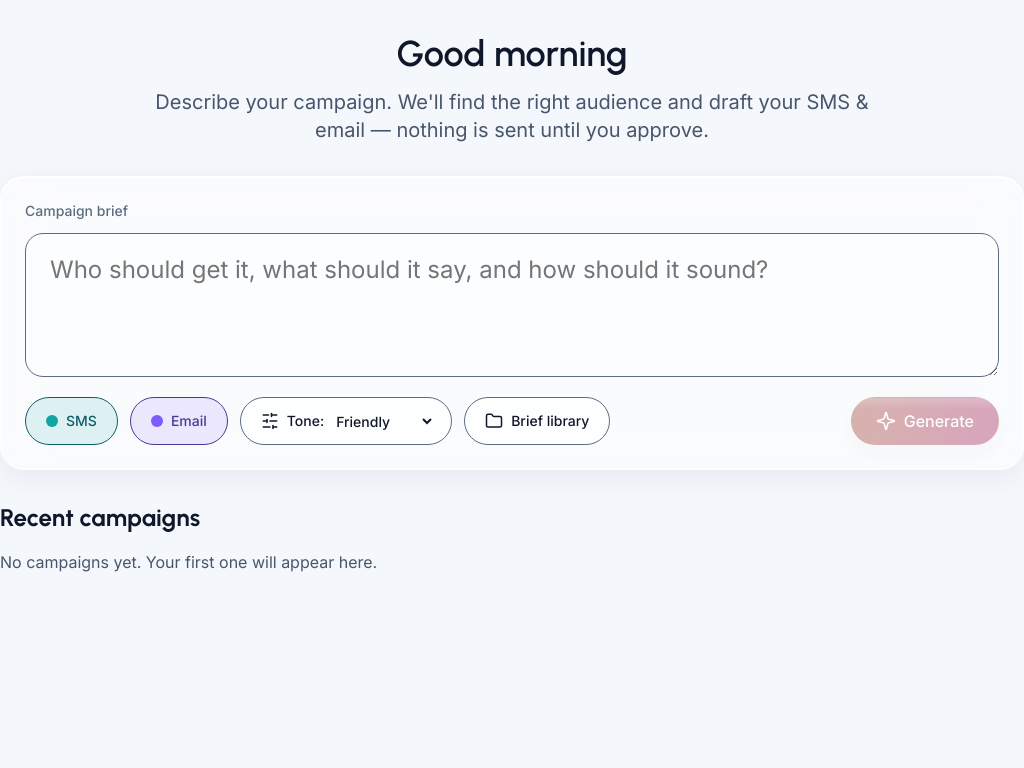
it: ComposerView › fills the form from the brief library
This screenshot has width=1024, height=768.
Click the button "Brief library".
click(537, 421)  # box top-left (464, 397), bottom-right (610, 445)
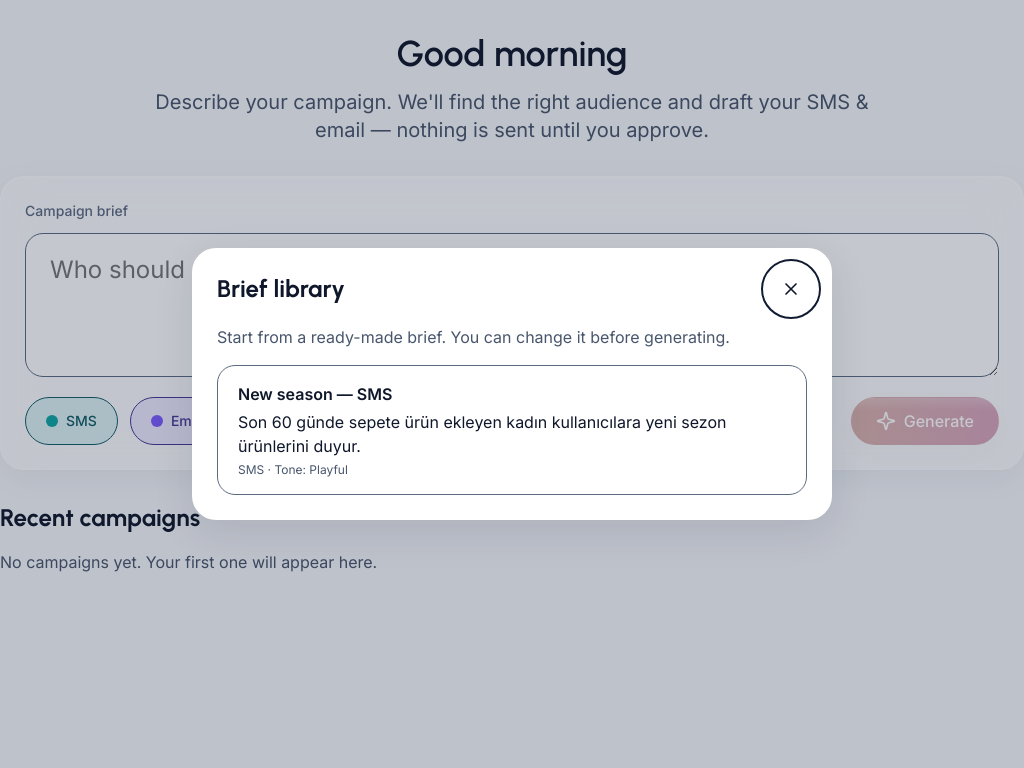
Click the button with class "example".
click(512, 430)  # box top-left (217, 365), bottom-right (807, 495)
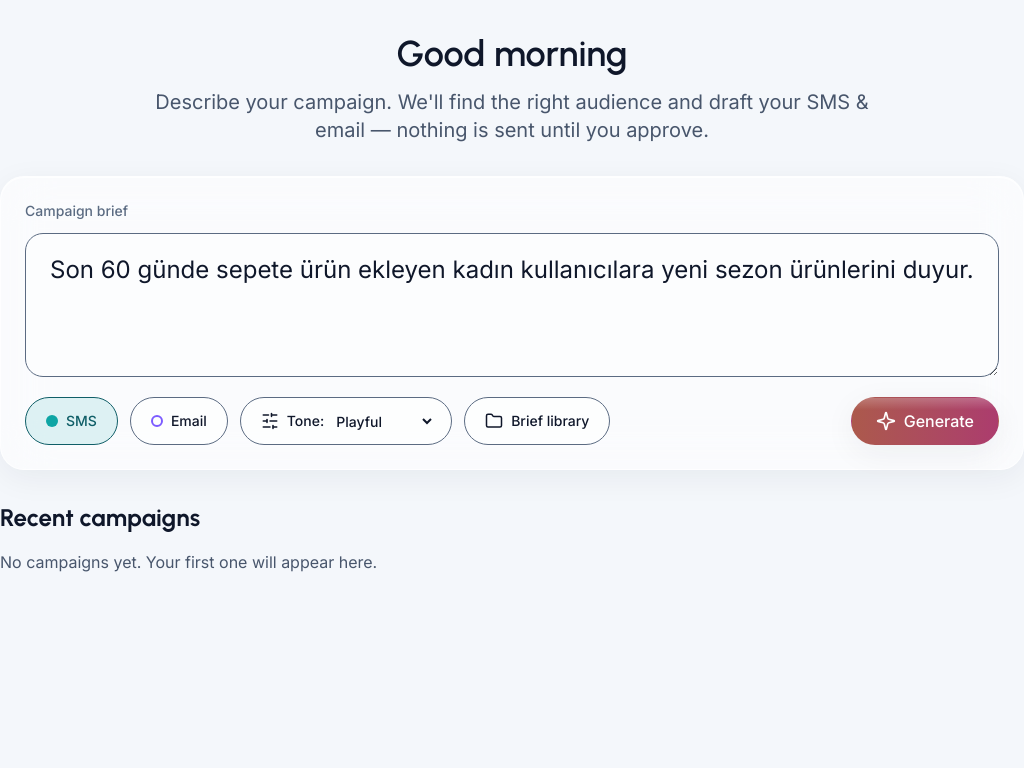
Expected: the text box labelled "Campaign brief" holds "Son 60 günde sepete ürün ekleyen kadın kullanıcılara yeni sezon ürünlerini duyur.", top-left (25, 233), bottom-right (999, 377)
Expected: the dropdown labelled "Tone:" shows "Playful", top-left (332, 412), bottom-right (435, 430)
